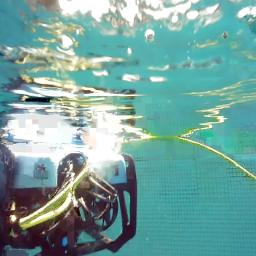back: (0, 141, 138, 254)
